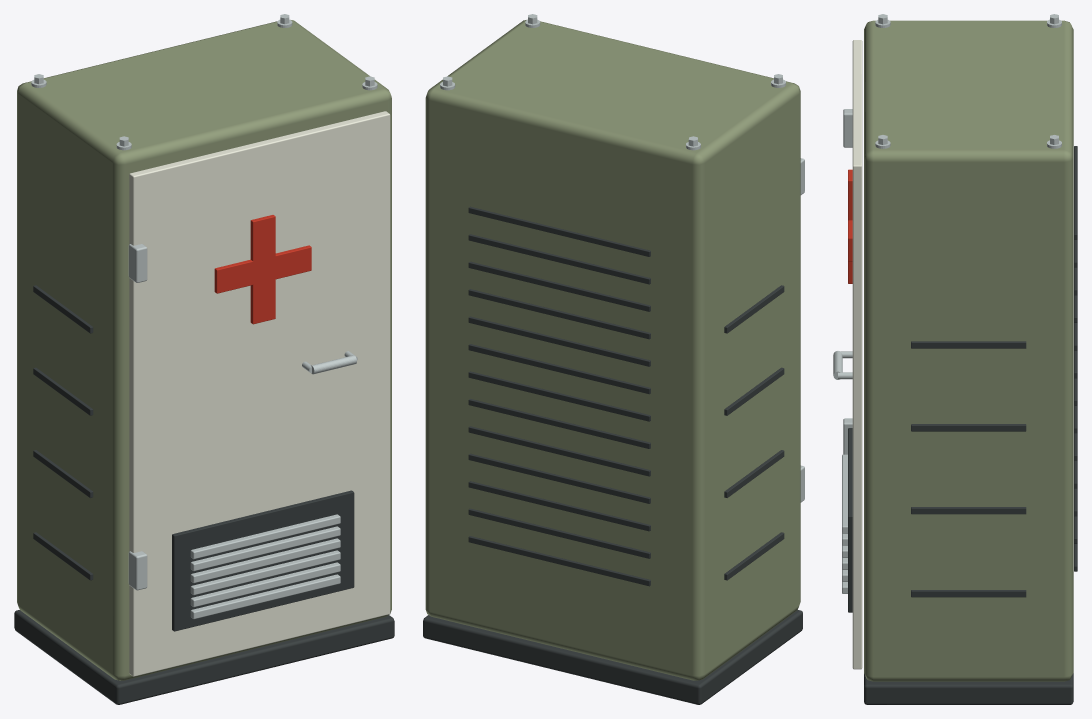
File: mountain-border-checkpoint-mountain-border-checkpoint--bbb0a5ab__30328.glb
3 renders of one model, left to right at view 1: azimuth 30°, elevation 25°; view 2: azimuth 150°, elevation 25°; view 3: azimuth 270°, elevation 25°, orthographic.
Parts seen in each view (by area): view 1: mountain-border-checkpoint-rescue-equipment-cabinet; view 2: mountain-border-checkpoint-rescue-equipment-cabinet; view 3: mountain-border-checkpoint-rescue-equipment-cabinet.
Part boxes in pixels (<box>): mountain-border-checkpoint-rescue-equipment-cabinet: <box>14,14,394,704</box>; mountain-border-checkpoint-rescue-equipment-cabinet: <box>423,14,804,704</box>; mountain-border-checkpoint-rescue-equipment-cabinet: <box>833,14,1077,704</box>.
Bounding box in the file's own units: 0.872 × 1.62 × 0.6405.
